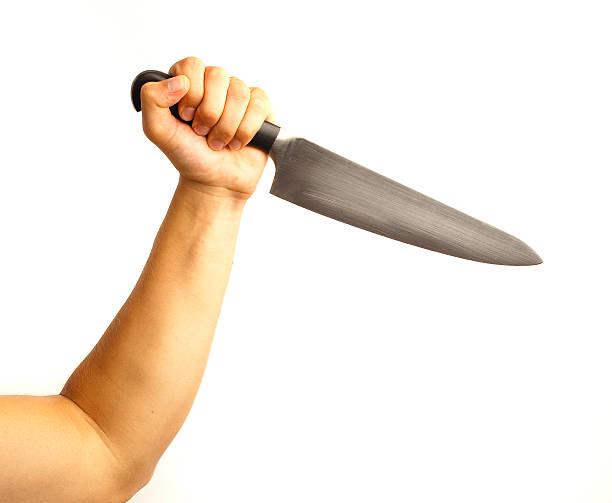knife: (130, 70, 547, 266)
